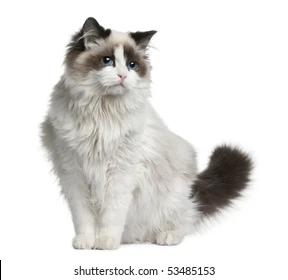ragdoll: (60, 13, 163, 115)
